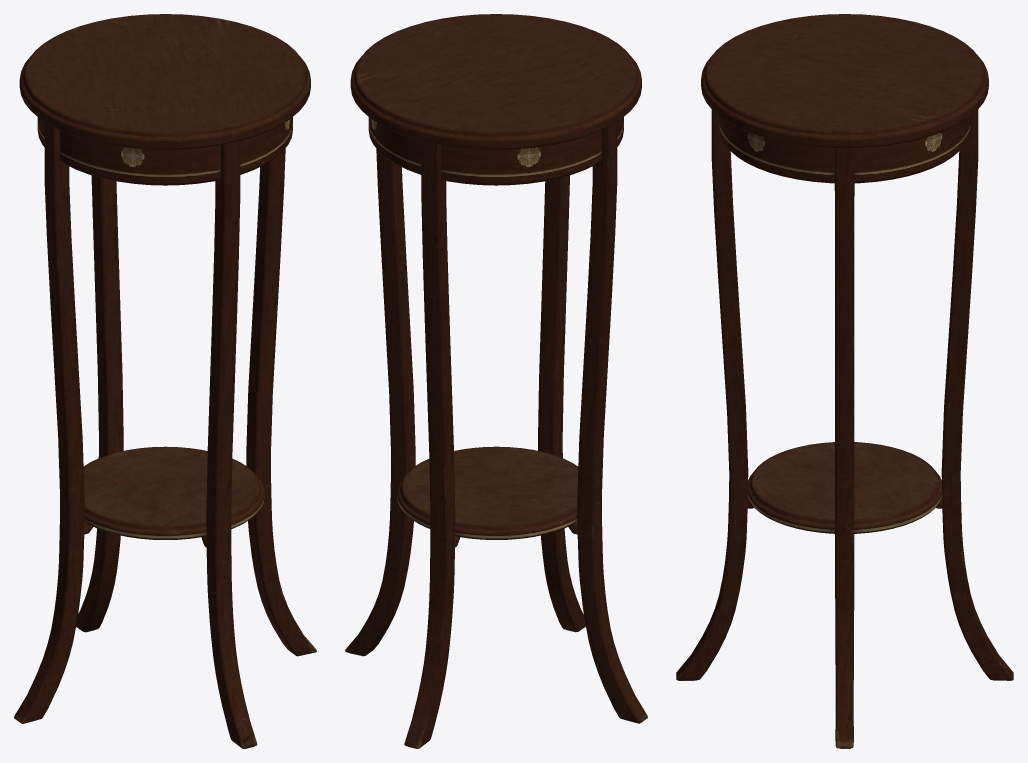
The model's file is side_table_tall_01.glb.
3 views of the same model, side by side, from view 1: azimuth 30°, elevation 25°; view 2: azimuth 150°, elevation 25°; view 3: azimuth 270°, elevation 25° (orthographic).
Visible parts, largest first — view 1: side_table_tall_01; view 2: side_table_tall_01; view 3: side_table_tall_01.
Part boxes in pixels (x1,y1,x2,y2): side_table_tall_01: [14, 14, 316, 748]; side_table_tall_01: [345, 14, 647, 748]; side_table_tall_01: [676, 14, 1013, 748].
Size of the model in its own units: 0.384 by 0.7612 by 0.384.
Materials: 1 (1 with a texture image).
